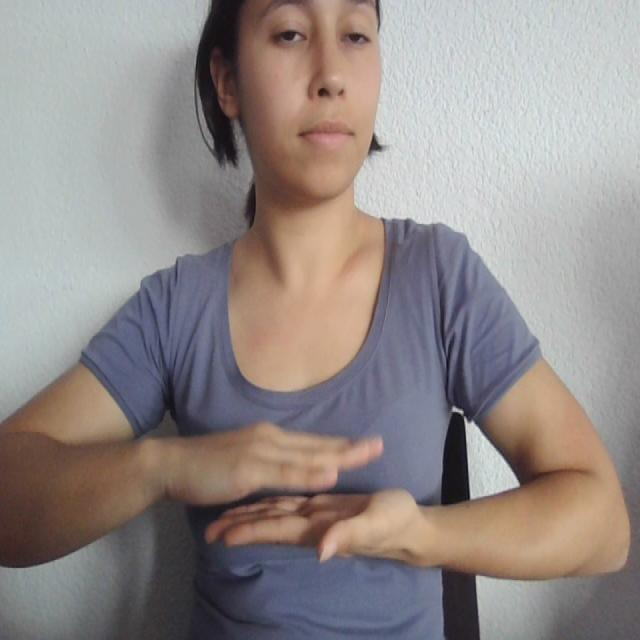Arkadas: (114, 410, 586, 589)
